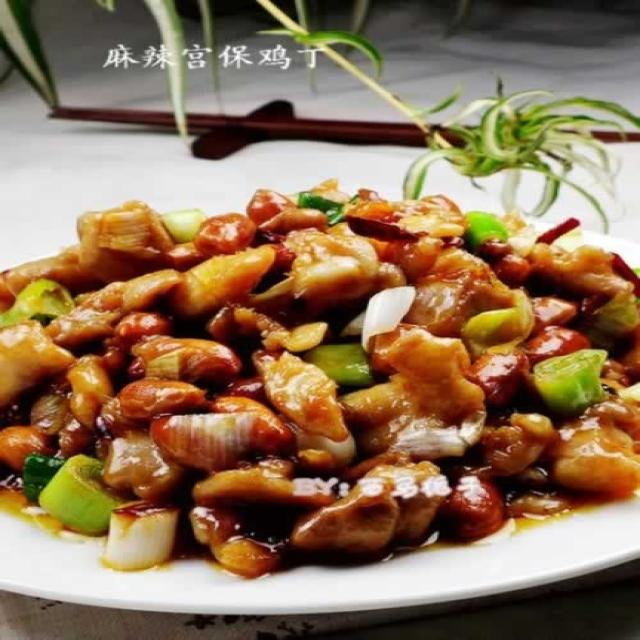鸡肉料理 含炸鸡: (3, 167, 637, 599)
